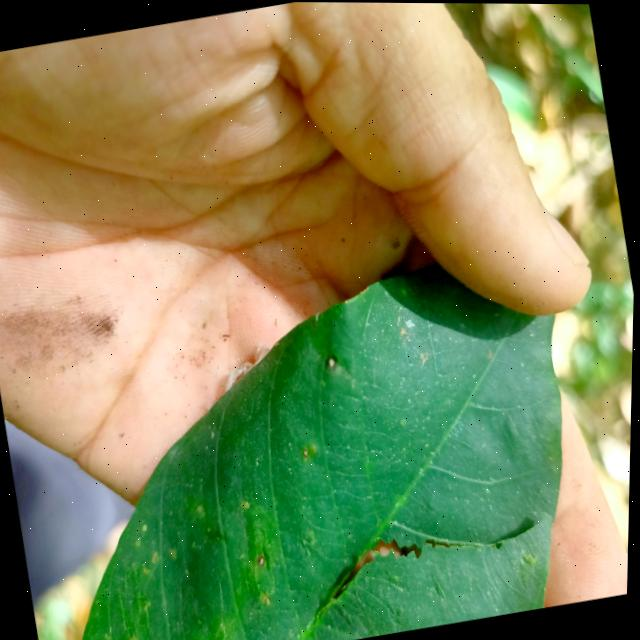Colletotrichum: (324, 353, 339, 372), (302, 447, 311, 458), (258, 555, 267, 566)
